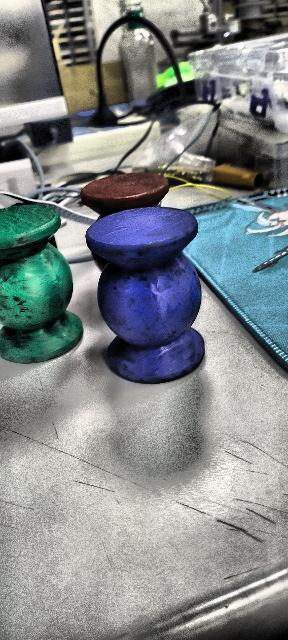blue: (85, 206, 205, 384)
green: (0, 197, 82, 373)
red: (82, 174, 179, 210)
